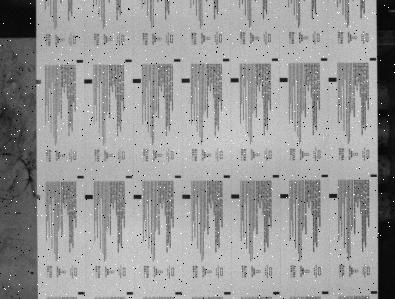incorrect qblock: (36, 79, 42, 84), (36, 195, 41, 201)
qblock: (231, 194, 240, 199), (84, 79, 92, 84), (182, 78, 190, 83), (231, 78, 239, 83), (85, 195, 93, 200), (134, 195, 142, 200), (281, 194, 289, 199), (329, 194, 338, 198), (182, 195, 191, 199), (133, 79, 141, 83), (280, 78, 288, 82), (329, 78, 337, 82)
smallqblock: (126, 292, 134, 296), (223, 58, 230, 62), (175, 292, 182, 296), (224, 292, 232, 295), (76, 60, 83, 63), (125, 59, 132, 62), (174, 59, 181, 62), (272, 58, 279, 61), (321, 58, 328, 61), (77, 176, 84, 179), (370, 58, 377, 61), (126, 176, 133, 179), (273, 175, 280, 178), (322, 175, 329, 178), (224, 175, 231, 178), (175, 176, 182, 179), (371, 175, 378, 178), (78, 292, 85, 295), (274, 292, 281, 295), (322, 292, 329, 295), (371, 292, 378, 295)
